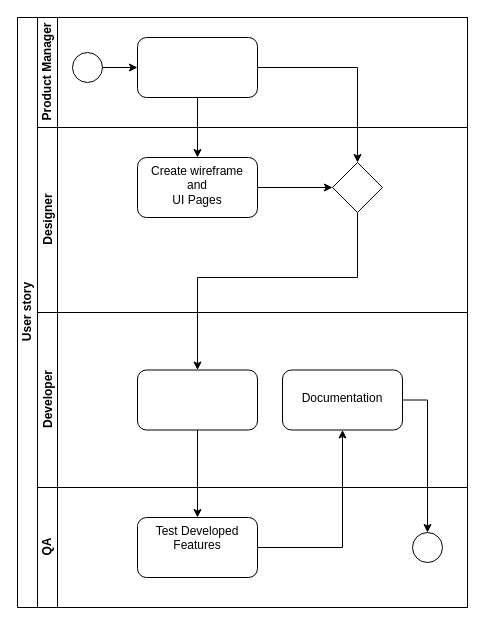
This 485x625 diagram has some shape labels left out. The shapes that lost their labels are listed below. From the top down, each one's centre as x and y in pixels, then its label:
At (87,67): "PRD Creation".
At (197,67): "Draft PRD".
At (197,399): "Develope PRD and Pages".
At (427,547): "Ending User Story".
